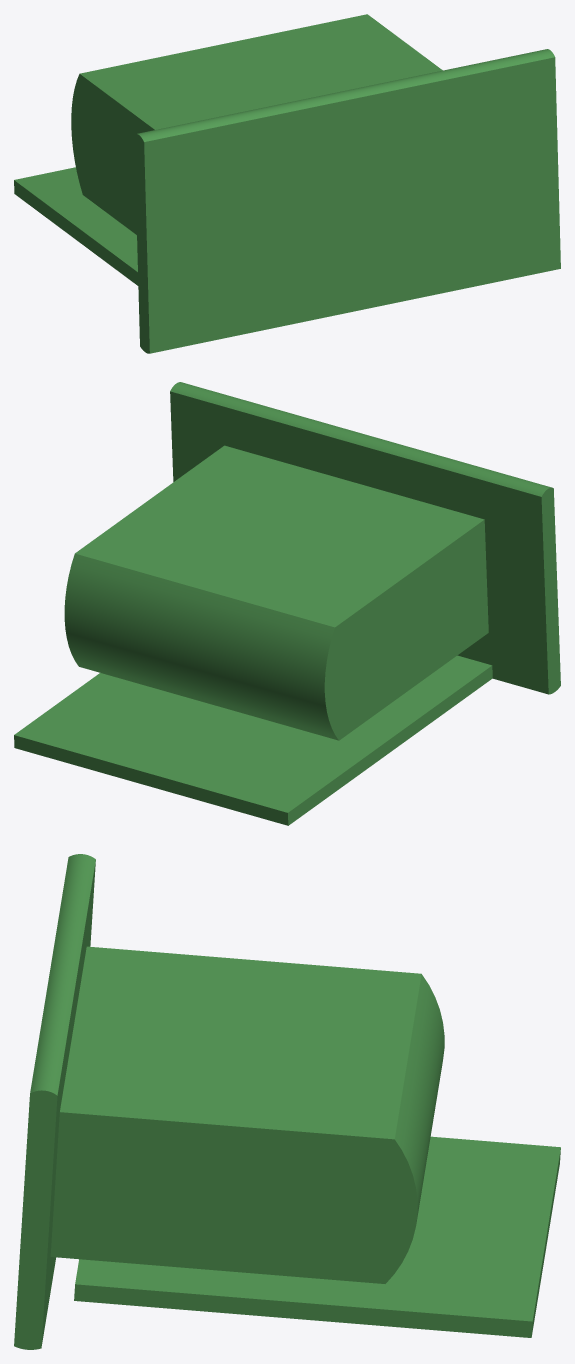
Rendered from PalmNormal1.dae.
The picture shows the model from 3 angles, top to bottom: view 1: azimuth 30°, elevation 25°; view 2: azimuth 150°, elevation 25°; view 3: azimuth 270°, elevation 25°; orthographic projection. The views are drawn at different scales.
Parts seen in each view (by area): view 1: group_0 (×3); view 2: group_0 (×6); view 3: group_0 (×5).
Part boxes in pixels (x1,y1,x2,y2): group_0 (×3): (14,14,560,353); group_0 (×6): (14,382,560,825); group_0 (×5): (14,854,560,1349).
Bounding box in the file's own units: 24.1 × 23.44 × 12.66.
